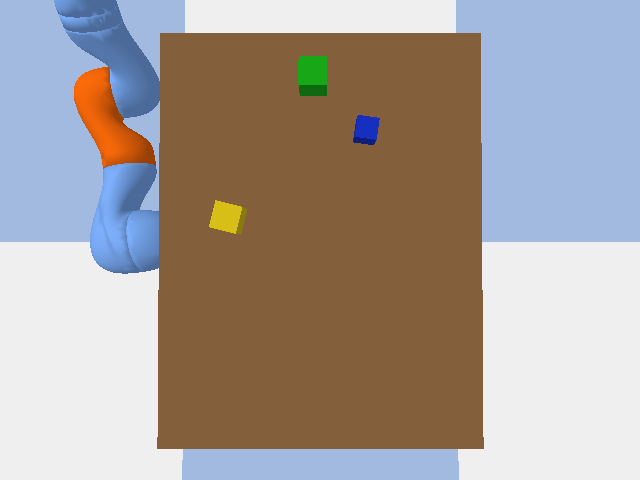blue_obj: (353, 115, 379, 144)
green_obj: (298, 56, 326, 95)
yellow_obj: (209, 200, 246, 234)
